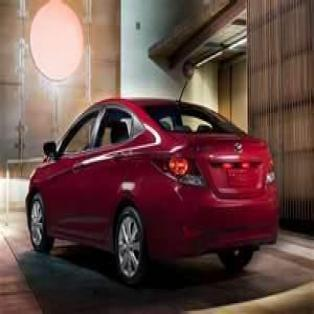Auto: (23, 80, 282, 294)
